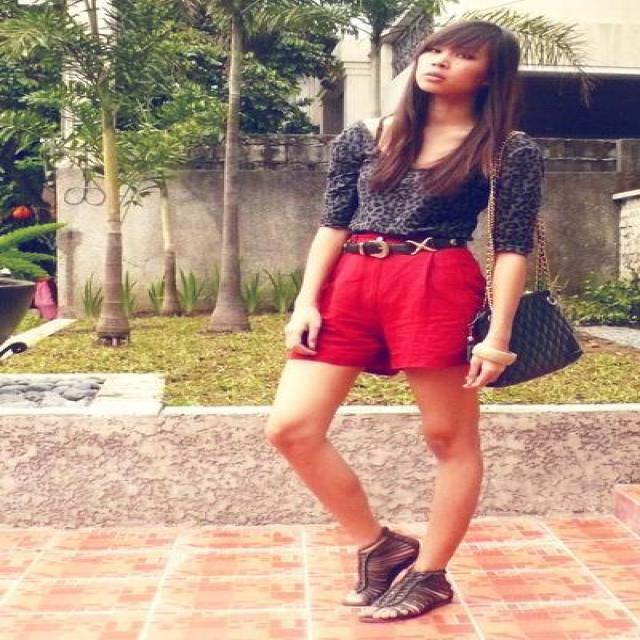bag: (464, 295, 606, 386)
shirt: (325, 115, 541, 255)
shoe: (341, 527, 453, 639)
skirt: (292, 243, 490, 376)
